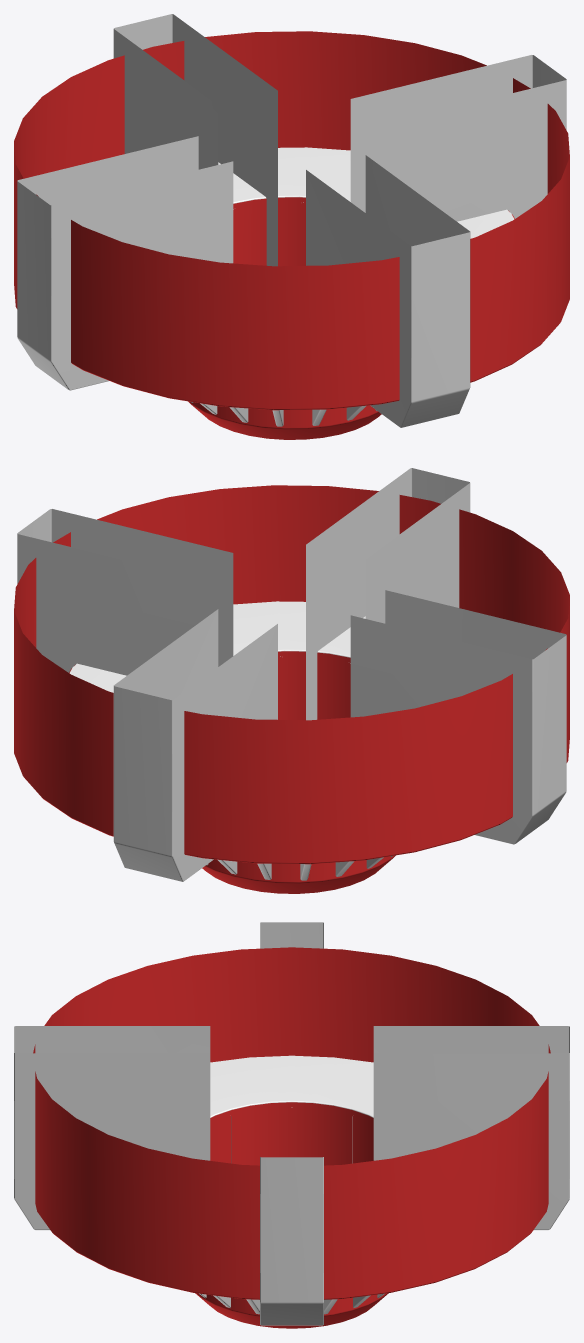
The model's file is Fan.glb.
The picture shows the model from 3 angles, top to bottom: view 1: azimuth 30°, elevation 25°; view 2: azimuth 150°, elevation 25°; view 3: azimuth 270°, elevation 25°; orthographic projection. The views are drawn at different scales.
Visible parts, largest first — view 1: Fan; view 2: Fan; view 3: Fan.
Boxes of the visible parts, box(x1,y1,x2,y2) form: Fan: box(14, 14, 569, 439); Fan: box(14, 468, 569, 893); Fan: box(14, 922, 569, 1328).
Size of the model in its own units: 4 by 2 by 4.
